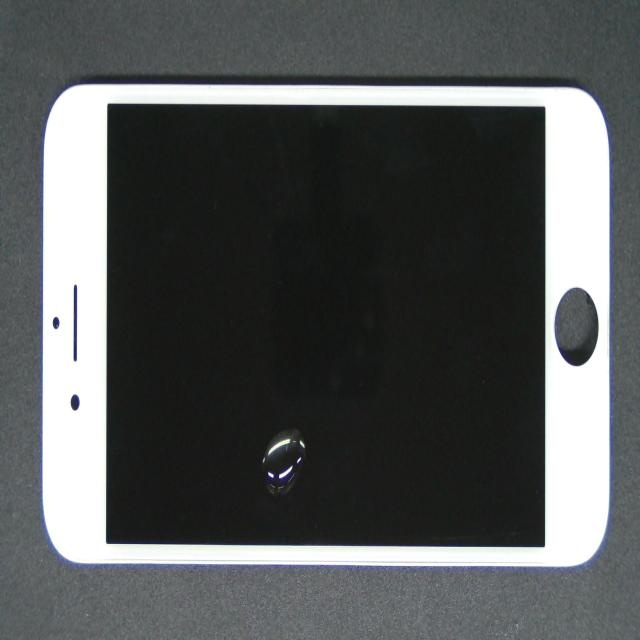oil: (174, 232, 470, 640)
